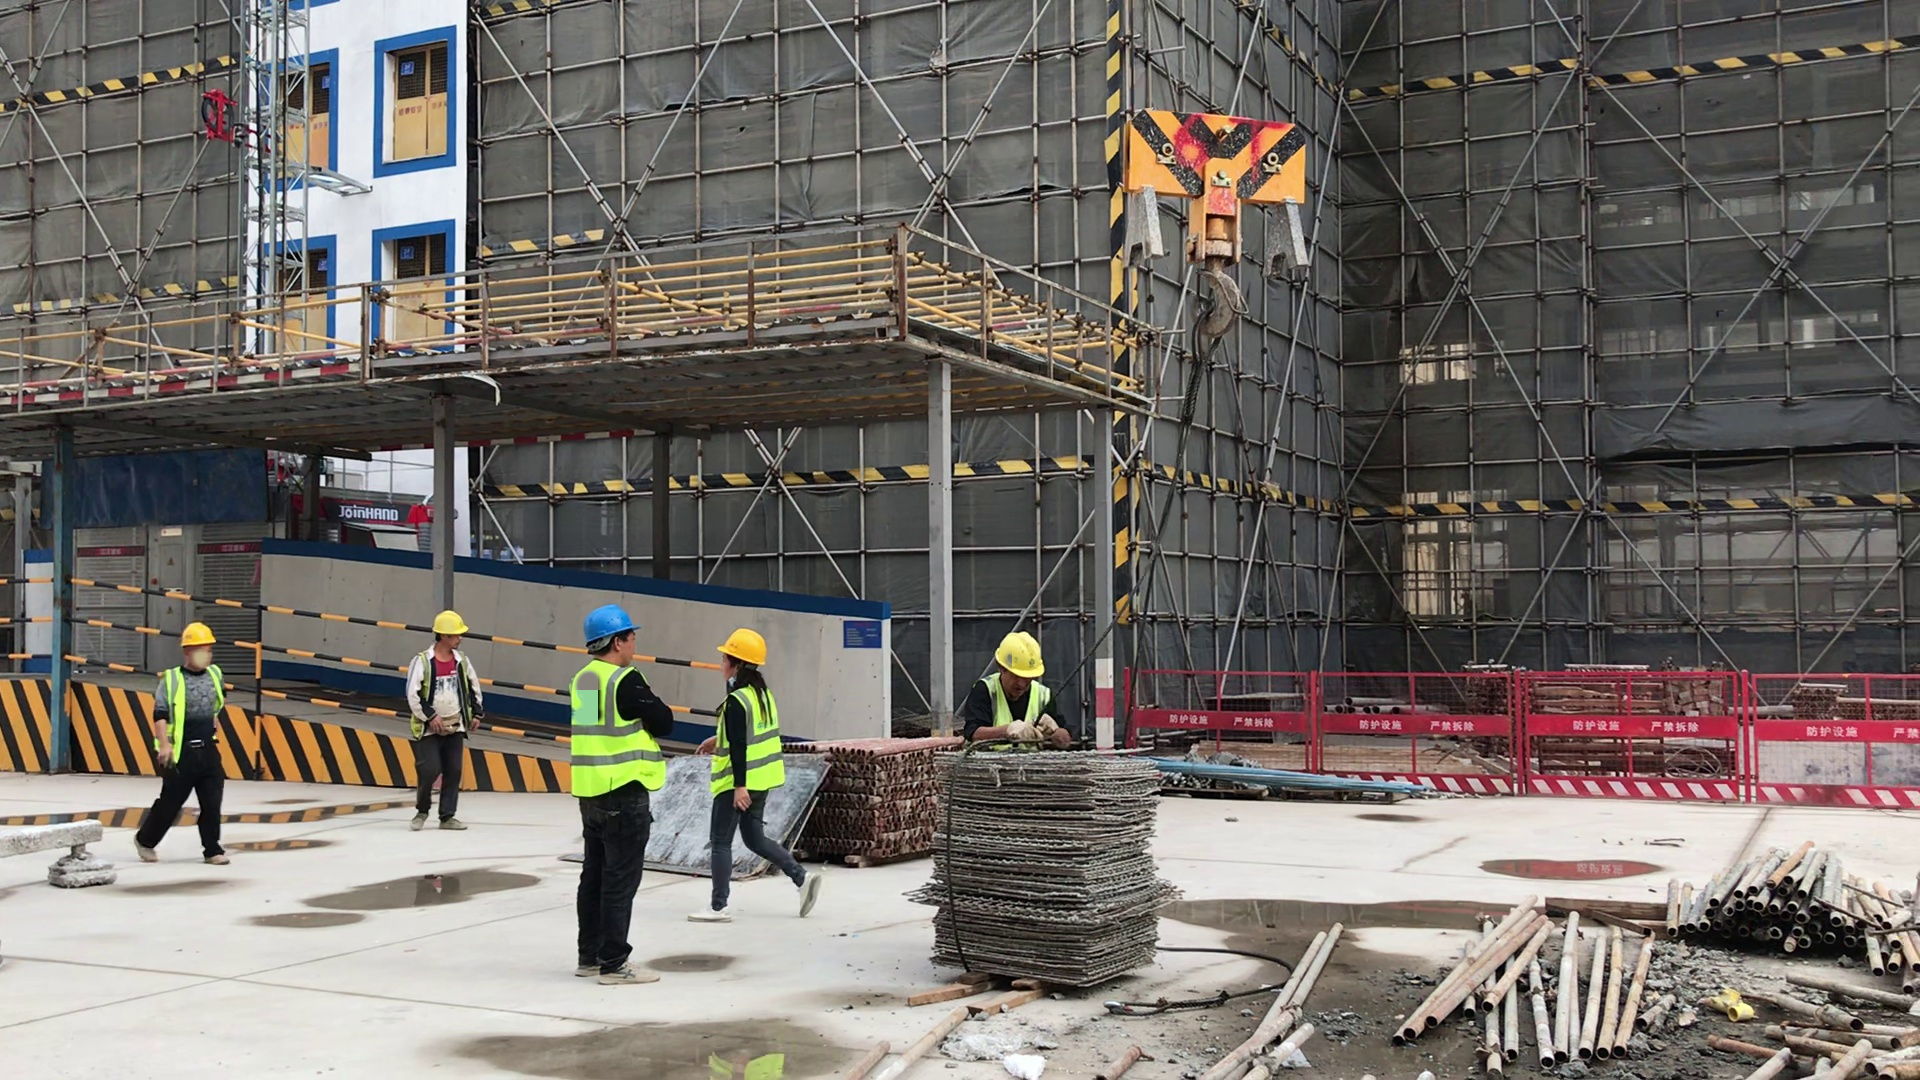helmet: (987, 629, 1046, 681), (581, 604, 639, 643), (714, 628, 770, 666), (172, 616, 216, 651), (429, 610, 471, 641)
person: (564, 601, 681, 990), (705, 625, 823, 933), (132, 617, 234, 870), (404, 609, 487, 834), (958, 628, 1076, 764)
vest: (556, 657, 671, 797), (710, 685, 790, 799), (160, 666, 232, 768)
